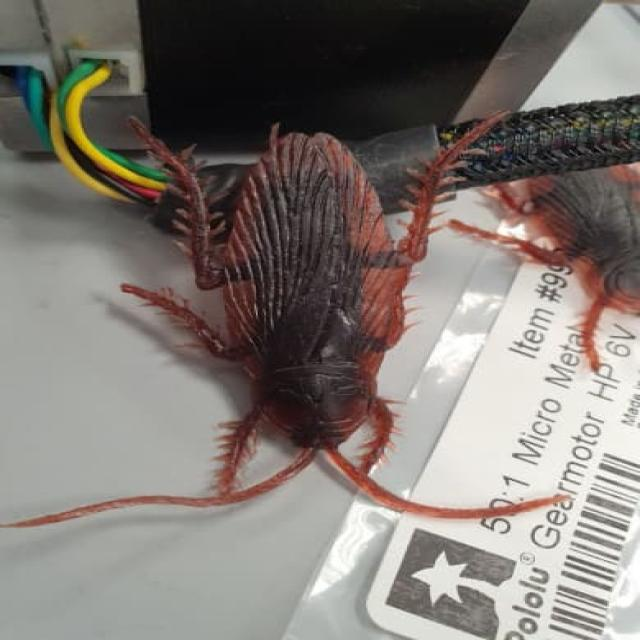Cockroach: (7, 108, 607, 512), (461, 133, 640, 372)
